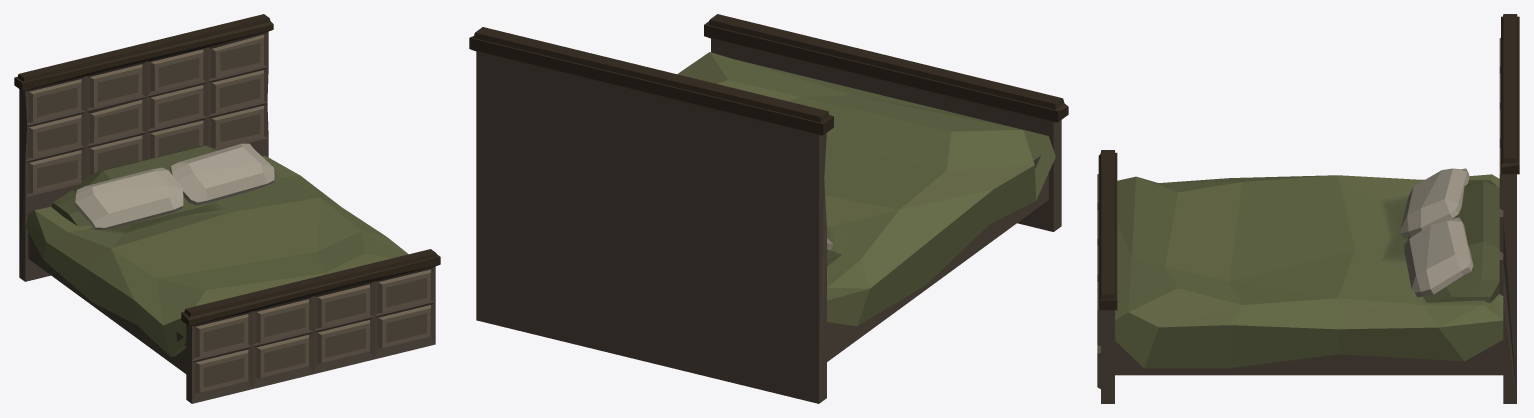
File: SM_Prop_Bed_Big_02.fbx
3 renders of one model, left to right at view 1: azimuth 30°, elevation 25°; view 2: azimuth 150°, elevation 25°; view 3: azimuth 270°, elevation 25°, orthographic. The views are drawn at different scales.
Visible parts, largest first — view 1: SM_Prop_Bed_Big_02; view 2: SM_Prop_Bed_Big_02; view 3: SM_Prop_Bed_Big_02.
Part boxes in pixels (x1,y1,x2,y2): SM_Prop_Bed_Big_02: [14, 14, 440, 403]; SM_Prop_Bed_Big_02: [469, 14, 1068, 403]; SM_Prop_Bed_Big_02: [1097, 14, 1519, 403].
Size of the model in its own units: 236 by 182 by 283.
